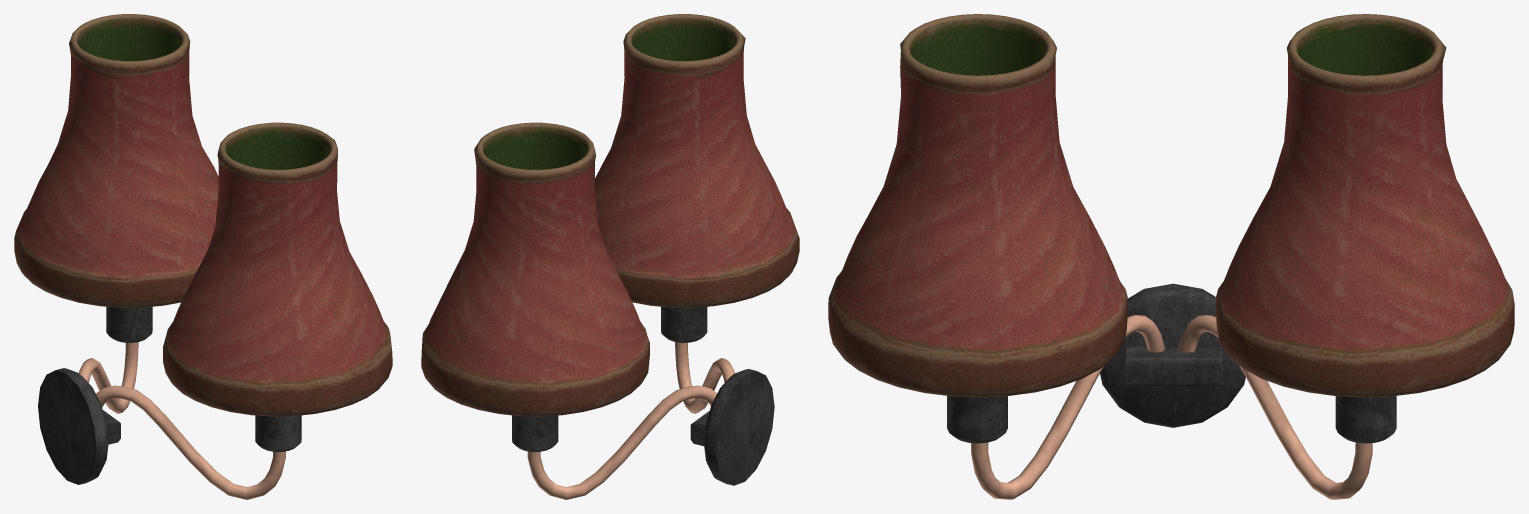
The model's file is SM_Lamp_Wall_01.fbx.
The picture shows the model from 3 angles, left to right: view 1: azimuth 30°, elevation 25°; view 2: azimuth 150°, elevation 25°; view 3: azimuth 270°, elevation 25°; orthographic projection. The views are drawn at different scales.
Visible parts, largest first — view 1: SM_Lamp_Wall_01_LOD0; view 2: SM_Lamp_Wall_01_LOD0; view 3: SM_Lamp_Wall_01_LOD0.
Boxes of the visible parts, box(x1,y1,x2,y2) form: SM_Lamp_Wall_01_LOD0: box(14, 14, 392, 499); SM_Lamp_Wall_01_LOD0: box(421, 14, 799, 499); SM_Lamp_Wall_01_LOD0: box(828, 14, 1514, 499).
Size of the model in its own units: 25.27 by 48.9 by 36.63.
Materials: 2 (2 with a texture image).
